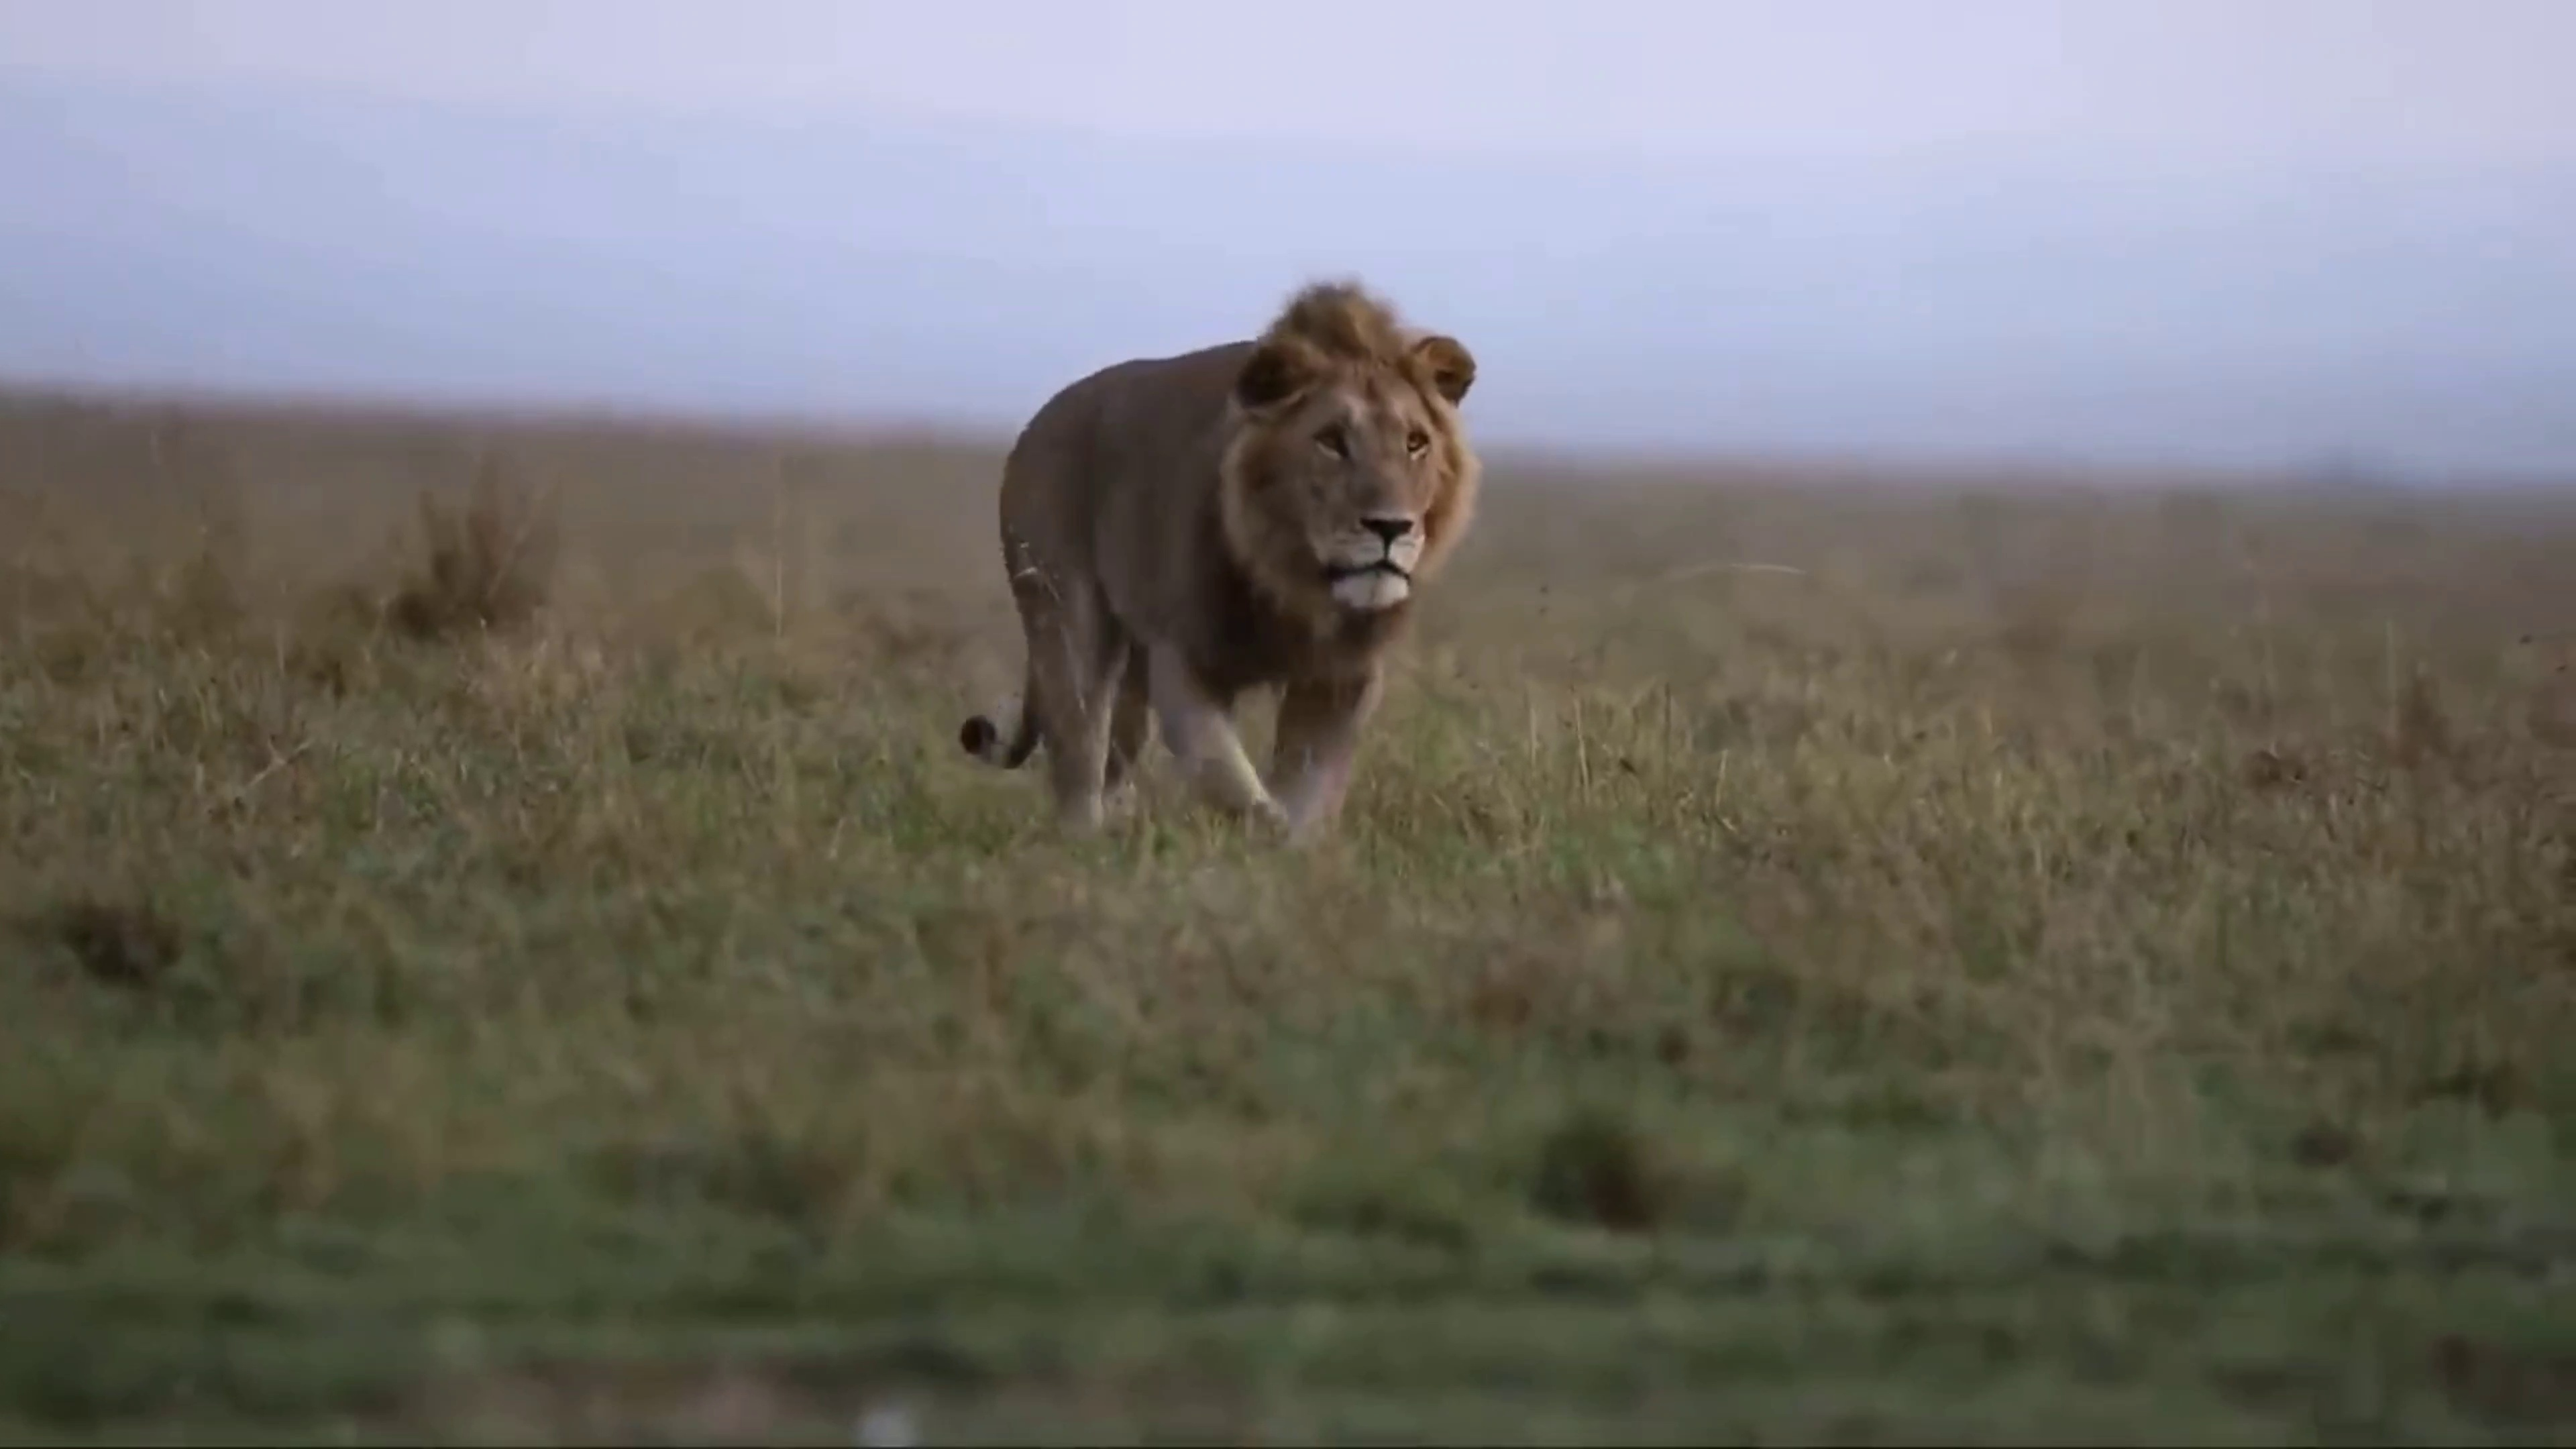Lion: (961, 280, 1481, 839)
